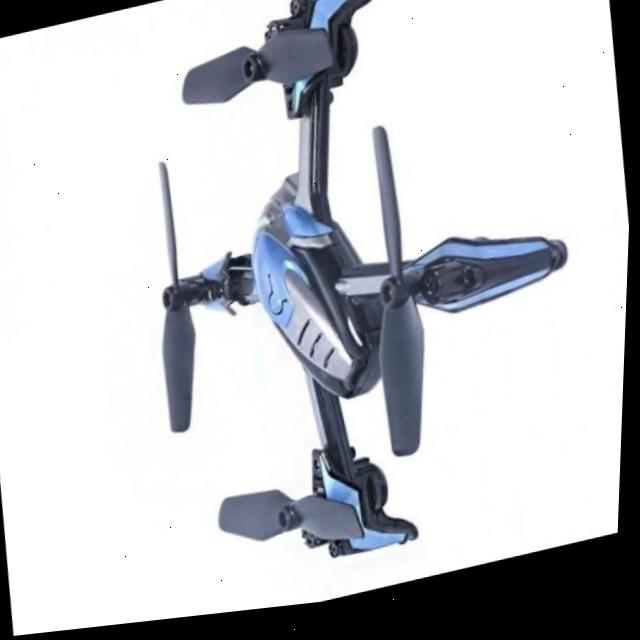drones: (90, 0, 623, 630)
